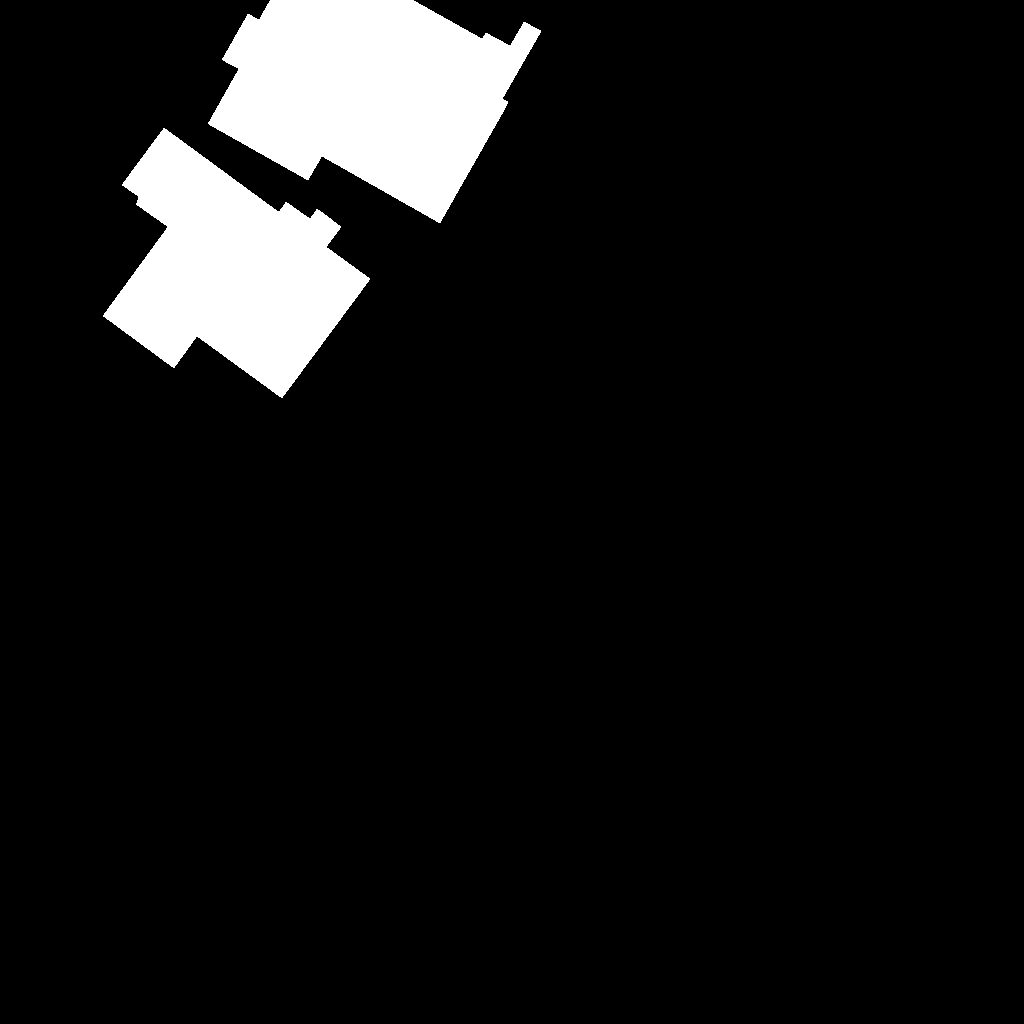building: (208, 0, 542, 224), (103, 128, 371, 399)
